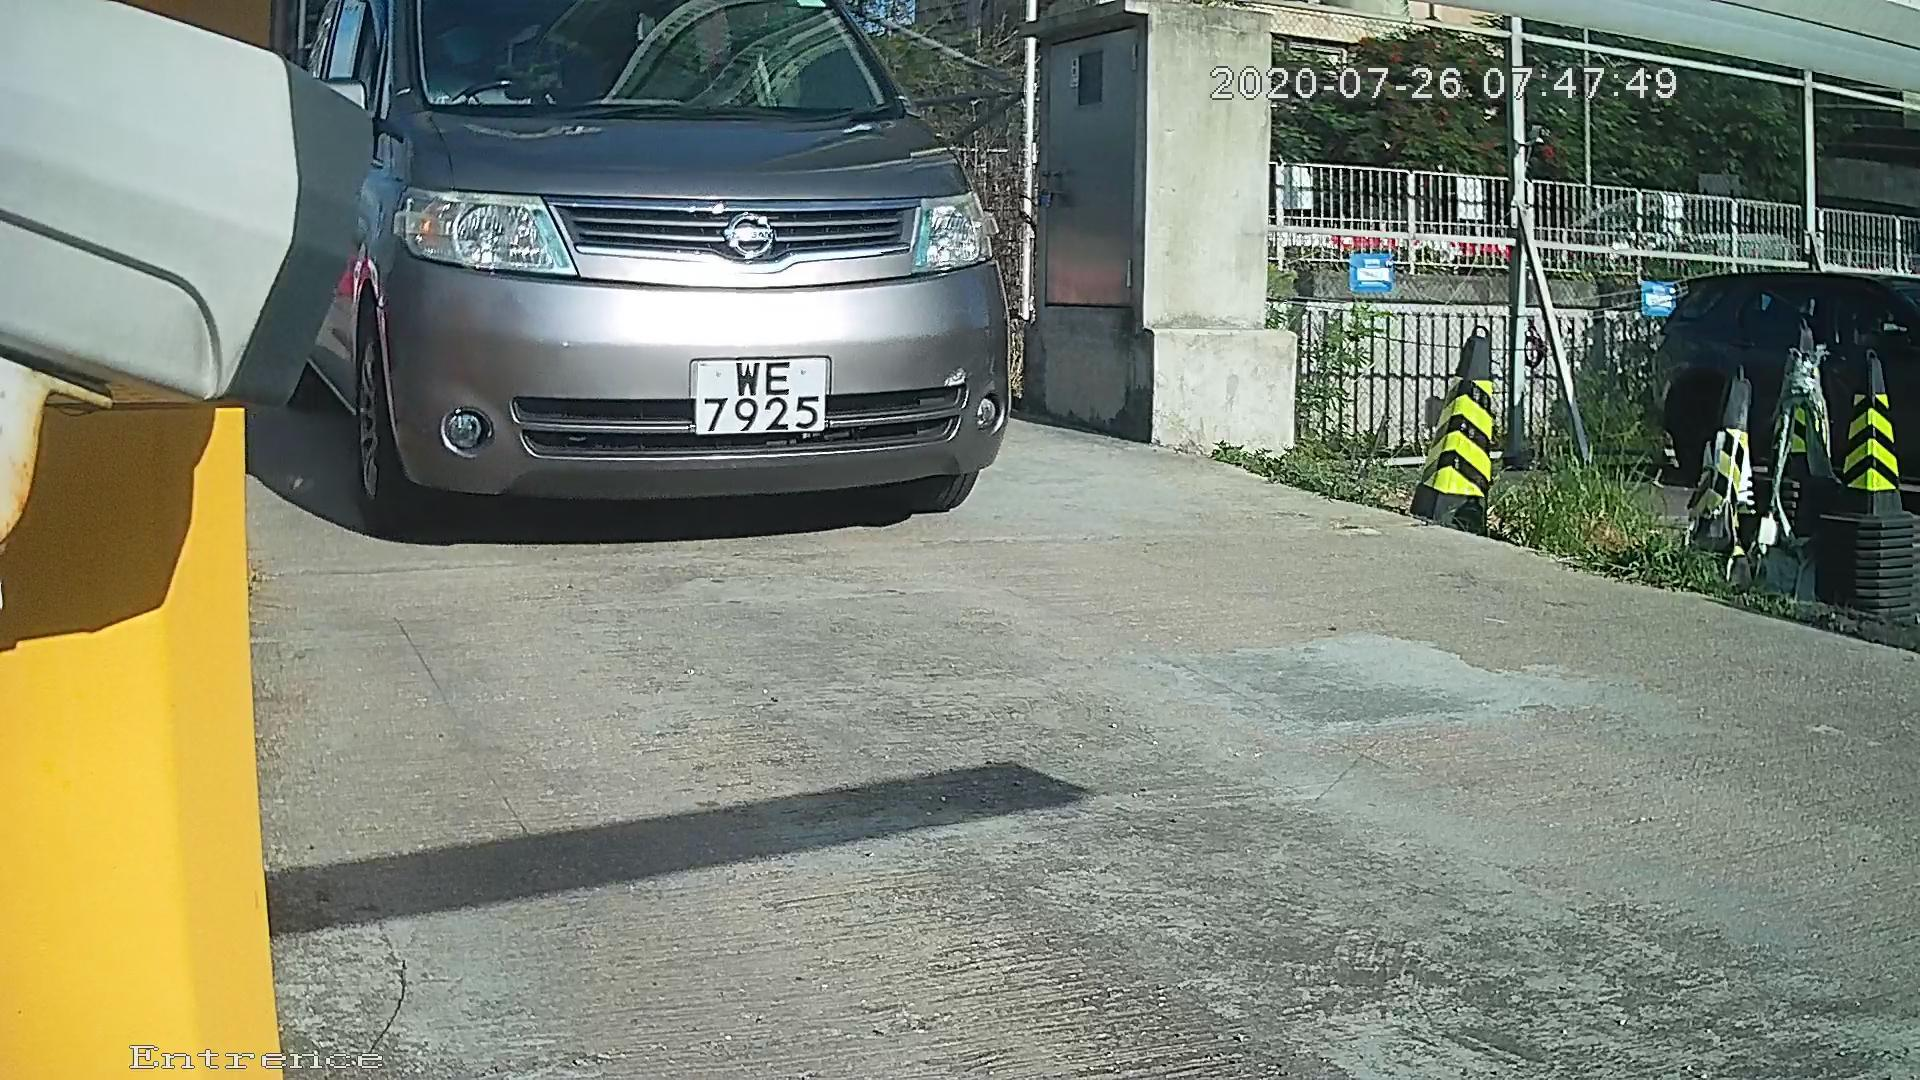privatecar: (223, 5, 1098, 550)
